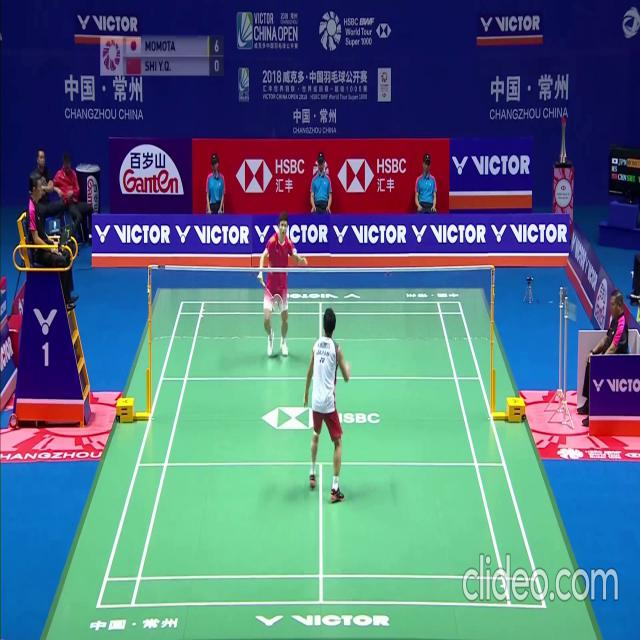Shuttlecock: (292, 248, 297, 255)
